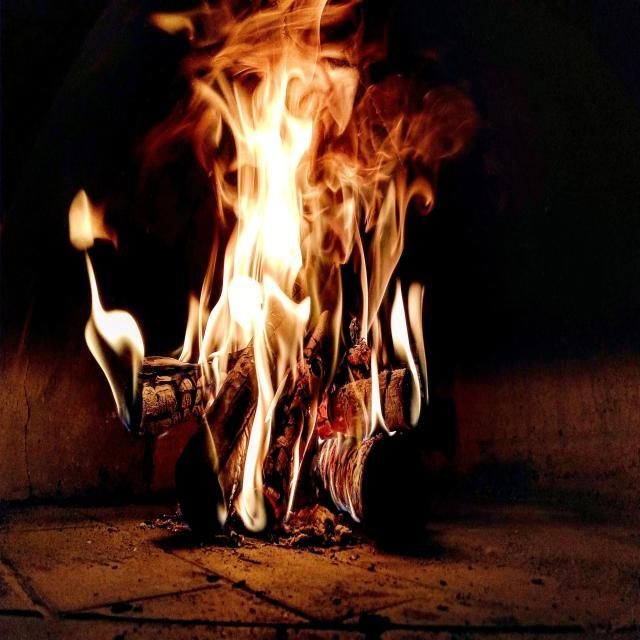Fire: (152, 0, 462, 533), (68, 190, 144, 420)
